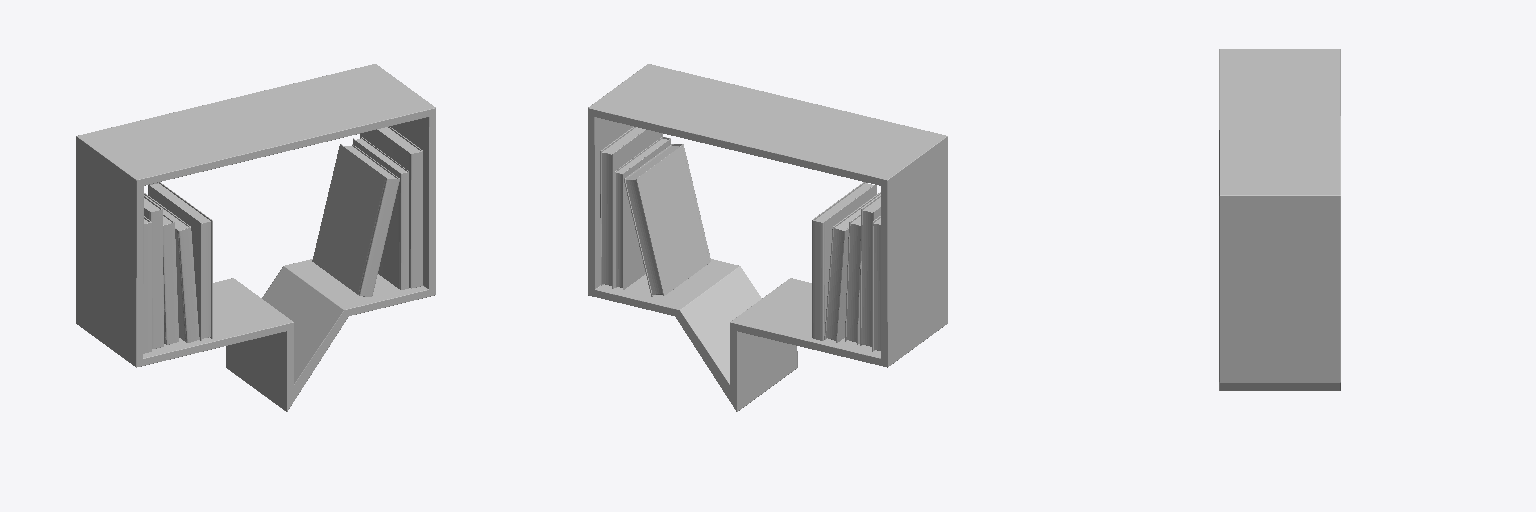
Rendered from bookshelve.obj.
3 views of the same model, side by side, from view 1: azimuth 30°, elevation 25°; view 2: azimuth 150°, elevation 25°; view 3: azimuth 270°, elevation 25° (orthographic).
Parts seen in each view (by area): view 1: shelf, book08, book06, book07, book05, book04, book02, book03, book01; view 2: shelf, book08, book07, book06, book05, book04, book02, book03, book01; view 3: shelf.
Part boxes in pixels (x1,y1,x2,y2): shelf: (76,64,435,411); book08: (312,144,399,296); book06: (148,182,212,340); book07: (360,127,422,288); book05: (353,137,408,289); book04: (144,193,199,342); book02: (144,195,163,348); book03: (163,214,178,344); book01: (143,216,151,353); shelf: (588,64,947,411); book08: (624,144,710,296); book07: (600,127,662,288); book06: (812,182,876,340); book05: (615,137,670,289); book04: (824,192,880,342); book02: (860,195,880,346); book03: (845,214,860,344); book01: (872,216,880,351); shelf: (1219,49,1340,390).
Size of the model in its own units: 25.17 by 21.54 by 8.82.